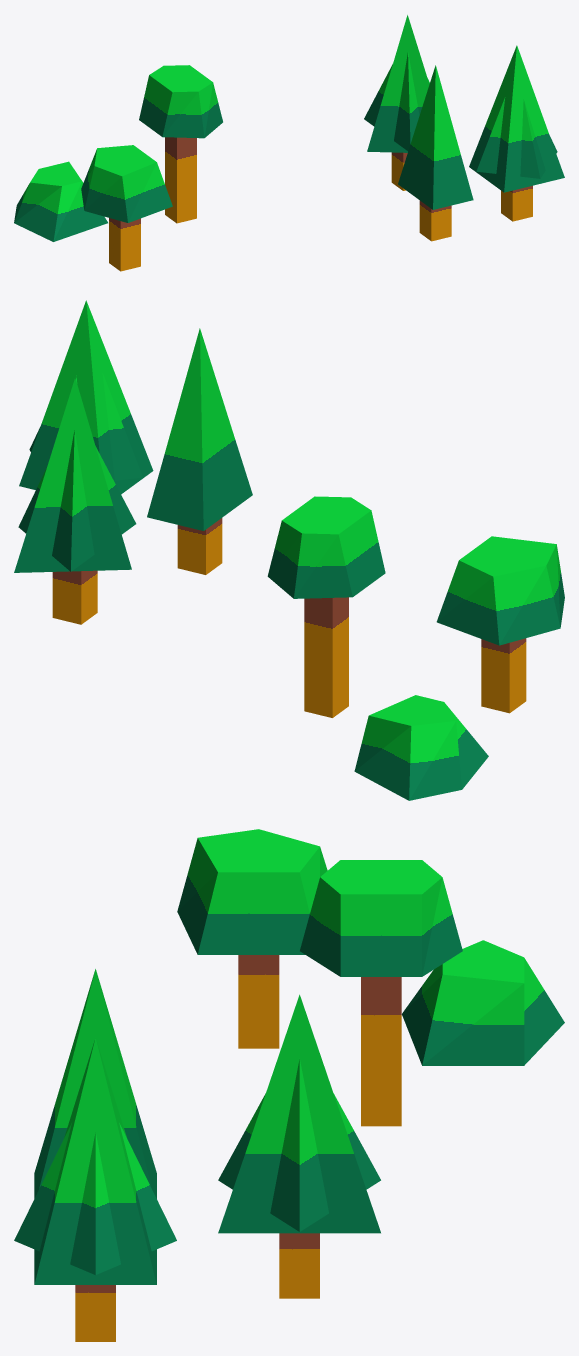
Rendered from tree_00.glb.
The picture shows the model from 3 angles, top to bottom: view 1: azimuth 30°, elevation 25°; view 2: azimuth 150°, elevation 25°; view 3: azimuth 270°, elevation 25°; orthographic projection. The views are drawn at different scales.
Parts seen in each view (by area): view 1: Mesh_6, Mesh_9, Mesh_3, Mesh_0, Mesh_4, Mesh_12, Mesh_1, Mesh_8, Mesh_11, Mesh_2, Mesh_5, Mesh_7 (+1 smaller); view 2: Mesh_6, Mesh_3, Mesh_4, Mesh_0, Mesh_12, Mesh_9, Mesh_1, Mesh_11, Mesh_2, Mesh_10, Mesh_5, Mesh_8; view 3: Mesh_0, Mesh_3, Mesh_12, Mesh_4, Mesh_9, Mesh_8, Mesh_6, Mesh_11, Mesh_1, Mesh_2, Mesh_10, Mesh_7.
Part boxes in pixels (x1=…): Mesh_6: x1=398, y1=65, x2=473, y2=209; Mesh_9: x1=469, y1=45, x2=564, y2=192; Mesh_3: x1=81, y1=145, x2=172, y2=222; Mesh_0: x1=139, y1=65, x2=222, y2=138; Mesh_4: x1=14, y1=161, x2=107, y2=241; Mesh_12: x1=367, y1=15, x2=429, y2=152; Mesh_1: x1=165, y1=137, x2=196, y2=223; Mesh_8: x1=476, y1=97, x2=557, y2=178; Mesh_11: x1=364, y1=52, x2=429, y2=151; Mesh_2: x1=109, y1=218, x2=140, y2=271; Mesh_5: x1=419, y1=200, x2=451, y2=241; Mesh_7: x1=501, y1=185, x2=532, y2=221; Mesh_6: x1=147, y1=328, x2=252, y2=530; Mesh_3: x1=436, y1=536, x2=564, y2=645; Mesh_4: x1=354, y1=695, x2=488, y2=800; Mesh_0: x1=267, y1=496, x2=385, y2=598; Mesh_12: x1=14, y1=378, x2=131, y2=572; Mesh_9: x1=19, y1=300, x2=153, y2=494; Mesh_1: x1=304, y1=597, x2=348, y2=717; Mesh_11: x1=18, y1=430, x2=136, y2=571; Mesh_2: x1=481, y1=638, x2=526, y2=713; Mesh_10: x1=52, y1=570, x2=97, y2=624; Mesh_5: x1=177, y1=518, x2=222, y2=574; Mesh_8: x1=29, y1=373, x2=142, y2=480; Mesh_0: x1=300, y1=860, x2=462, y2=976; Mesh_3: x1=177, y1=829, x2=327, y2=954; Mesh_12: x1=218, y1=994, x2=380, y2=1233; Mesh_4: x1=402, y1=940, x2=564, y2=1065; Mesh_9: x1=34, y1=1038, x2=156, y2=1284; Mesh_8: x1=14, y1=1123, x2=176, y2=1274; Mesh_6: x1=34, y1=969, x2=156, y2=1198; Mesh_11: x1=218, y1=1059, x2=380, y2=1231; Mesh_1: x1=361, y1=977, x2=401, y2=1126; Mesh_2: x1=238, y1=955, x2=279, y2=1048; Mesh_10: x1=279, y1=1233, x2=319, y2=1298; Mesh_7: x1=75, y1=1285, x2=115, y2=1341.
Size of the model in its own units: 10.5 by 4 by 6.75.
Materials: 1 (1 with a texture image).
